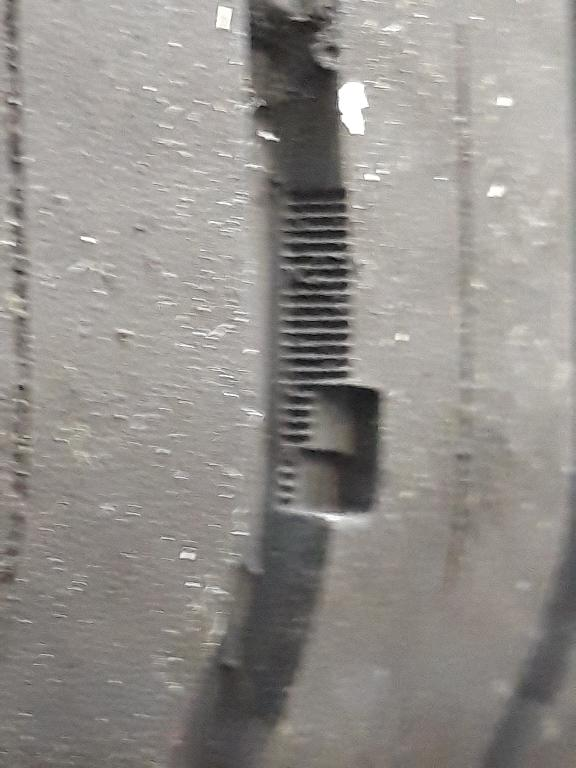temoin:50: (254, 311, 408, 546)
